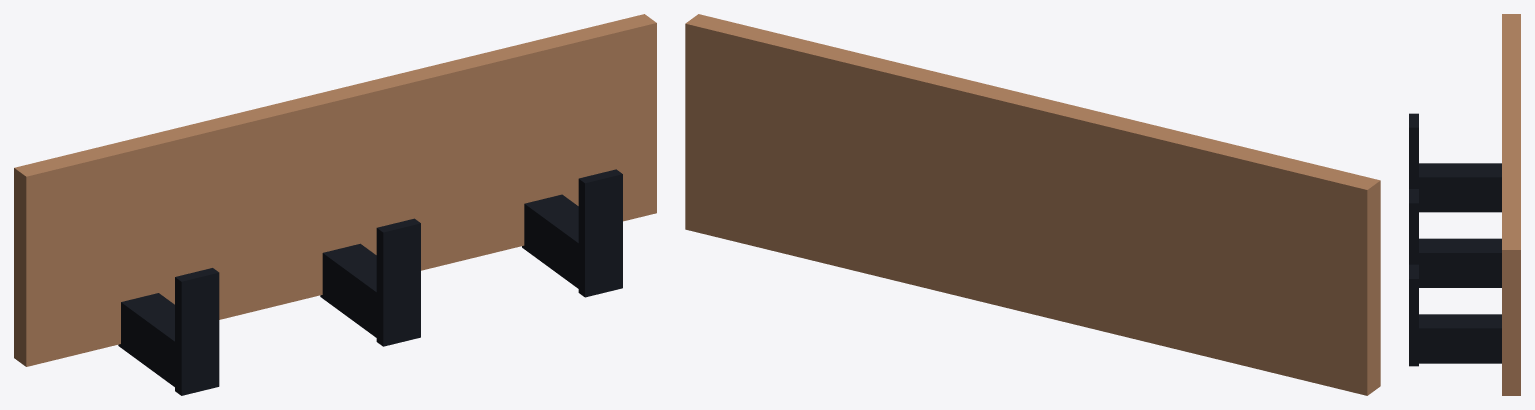
The model's file is hook-rack.glb.
The picture shows the model from 3 angles, left to right: view 1: azimuth 30°, elevation 25°; view 2: azimuth 150°, elevation 25°; view 3: azimuth 270°, elevation 25°; orthographic projection. The views are drawn at different scales.
Parts seen in each view (by area): view 1: hook-rack; view 2: hook-rack; view 3: hook-rack.
Boxes of the visible parts, x1,y1,x2,y2 form: hook-rack: (14, 14, 656, 395); hook-rack: (685, 14, 1380, 395); hook-rack: (1409, 14, 1520, 395).
Size of the model in its own units: 40 by 12 by 8.
